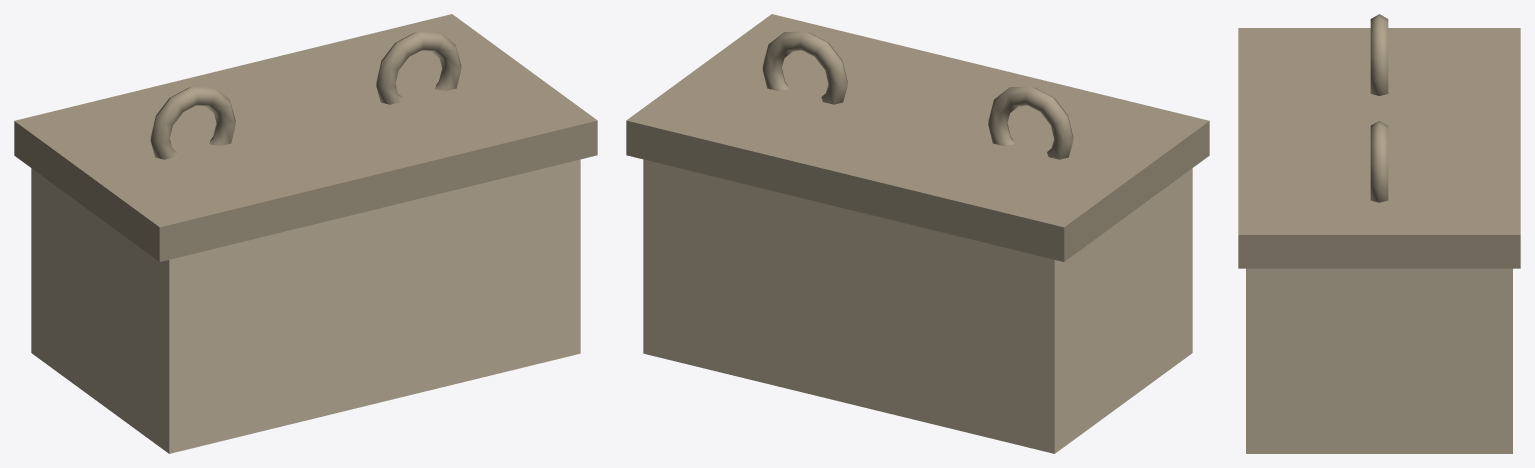
File: sandbag.glb
3 renders of one model, left to right at view 1: azimuth 30°, elevation 25°; view 2: azimuth 150°, elevation 25°; view 3: azimuth 270°, elevation 25°, orthographic. The views are drawn at different scales.
Size of the model in its own units: 0.66 by 0.424 by 0.38.
